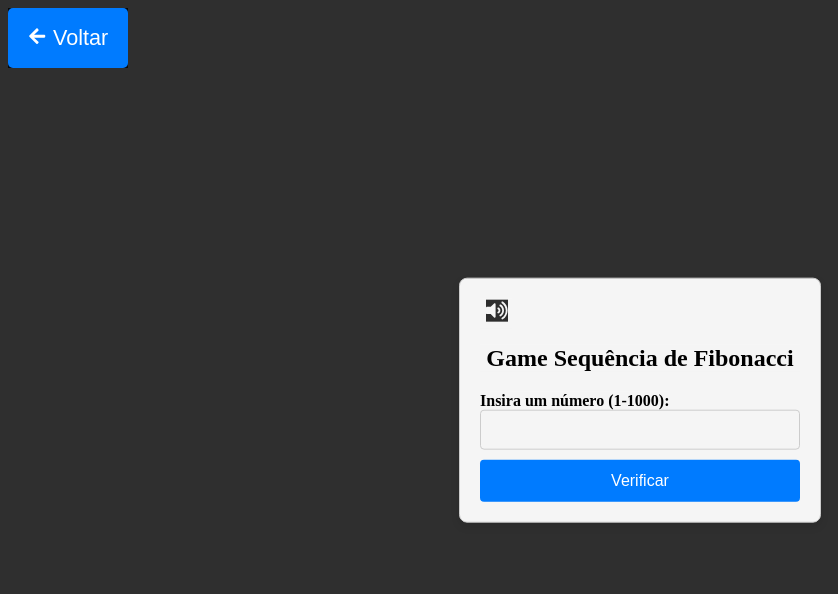
Test case: Fibonacci Page › should show the message: O número está na sequência de fibonacci, when entering an fibonacci number in the input
Type "13" into the number field labelled "Insira um número (1-1000):" at x=640, y=429, box 480,409 -> 800,449
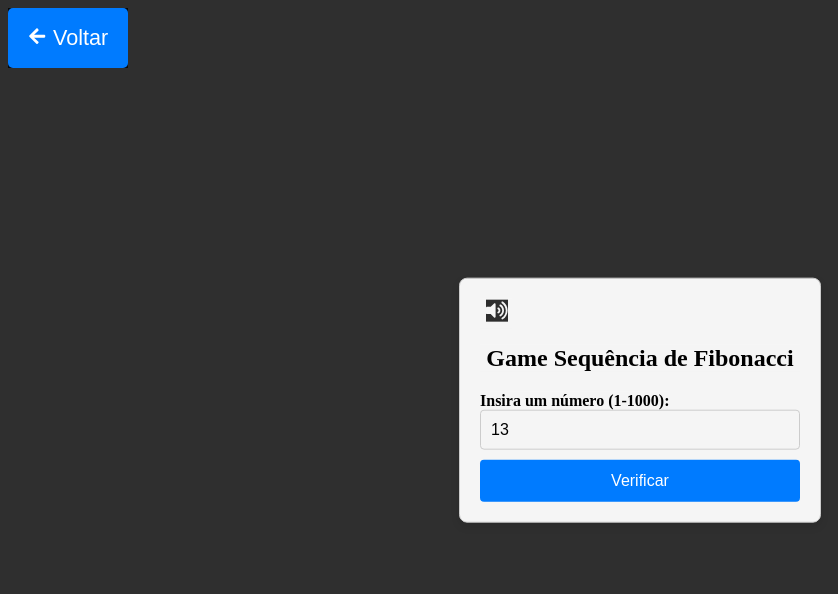
Click the button with test id "send-form" at x=640, y=480, box 480,459 -> 800,501
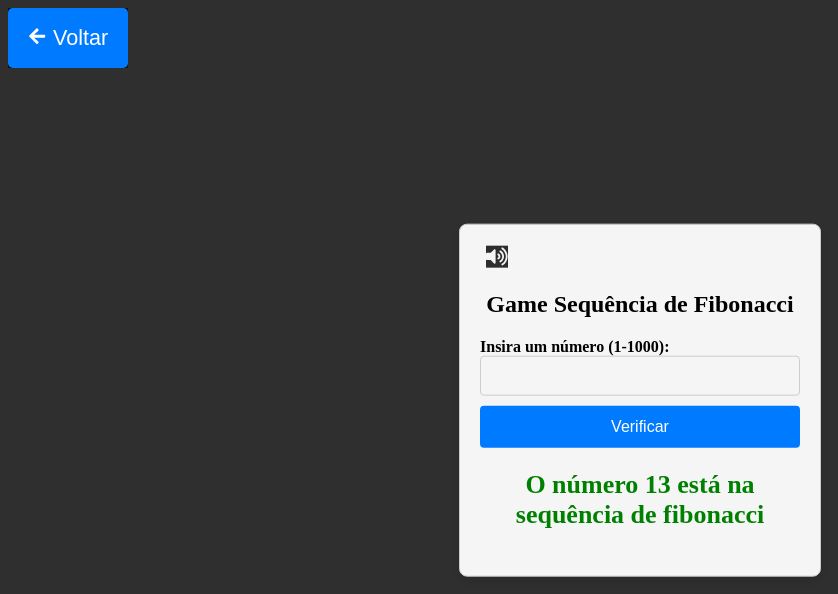
Check: the text with test id "result-text" reads "O número 13 está na sequência de fibonacci", box 480,469 -> 800,529
